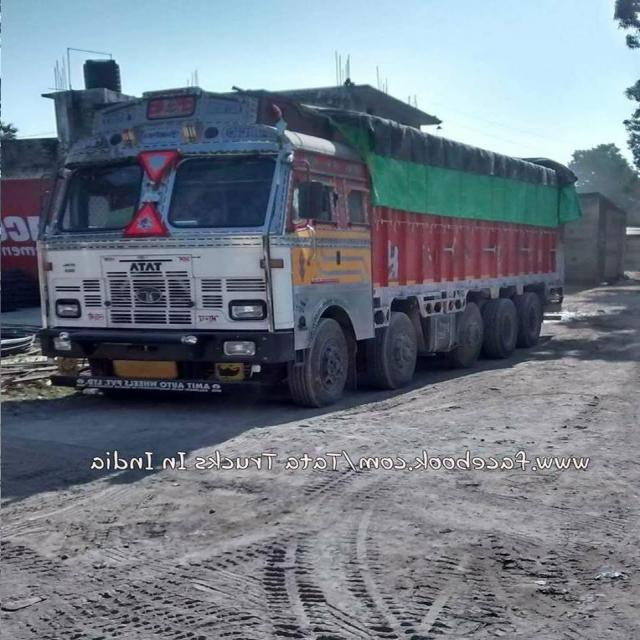truck: (33, 69, 577, 404)
